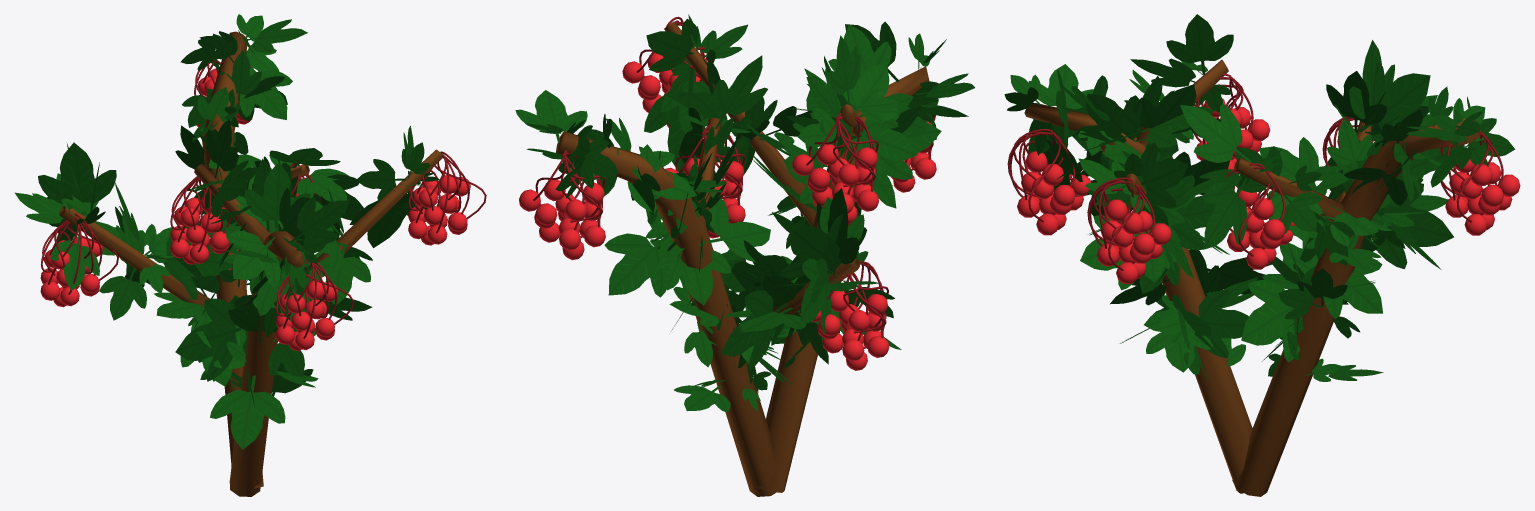
File: berry_bush.glb
3 views of the same model, side by side, from view 1: azimuth 30°, elevation 25°; view 2: azimuth 150°, elevation 25°; view 3: azimuth 270°, elevation 25° (orthographic). The views are drawn at different scales.
Visible parts, largest first — view 1: Plane.001, BushWood, Berries.001, BerryStems.001; view 2: Plane.001, BushWood, Berries.001, BerryStems.001; view 3: Plane.001, BushWood, Berries.001, BerryStems.001.
Boxes of the visible parts, x1,y1,x2,y2 form: Plane.001: (15,14,439,449); BushWood: (59,31,443,496); Berries.001: (40,68,470,350); BerryStems.001: (41,58,486,338); Plane.001: (515,14,974,412); BushWood: (556,21,929,496); Berries.001: (519,52,936,370); BerryStems.001: (533,16,935,348); Plane.001: (1004,14,1515,381); BushWood: (1024,60,1480,496); Berries.001: (1017,98,1520,283); BerryStems.001: (1007,73,1503,270).
Size of the model in its own units: 2.02 by 2.29 by 2.36.
4 materials, 1 textured.
